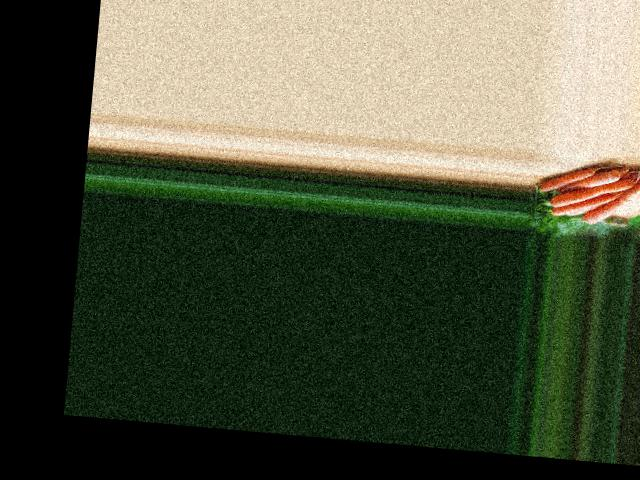carrot: (536, 152, 603, 195)
